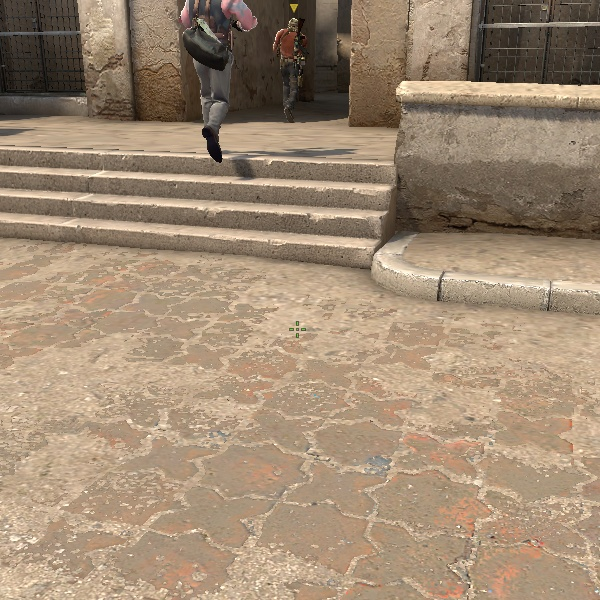t_body: (171, 1, 259, 159), (269, 17, 316, 121)
t_head: (287, 17, 301, 35)
